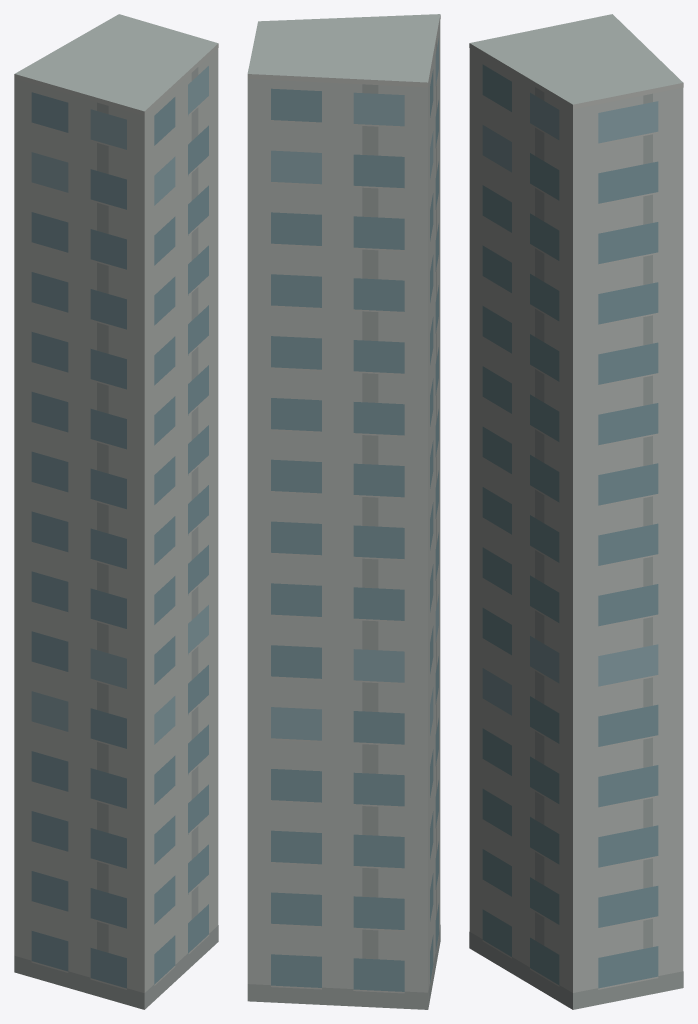
Rendered from survey-upis-32669544.glb.
3 views of the same model, side by side, from view 1: azimuth 30°, elevation 25°; view 2: azimuth 150°, elevation 25°; view 3: azimuth 270°, elevation 25° (orthographic). The views are drawn at different scales.
Visible parts, largest first — view 1: survey-upis-32669544.tmp; view 2: survey-upis-32669544.tmp; view 3: survey-upis-32669544.tmp.
Part boxes in pixels (<box>): survey-upis-32669544.tmp: <box>14,14,218,1009</box>; survey-upis-32669544.tmp: <box>247,14,440,1009</box>; survey-upis-32669544.tmp: <box>469,14,683,1009</box>.
Bounding box in the file's own units: 9.84 × 45.75 × 9.81.
